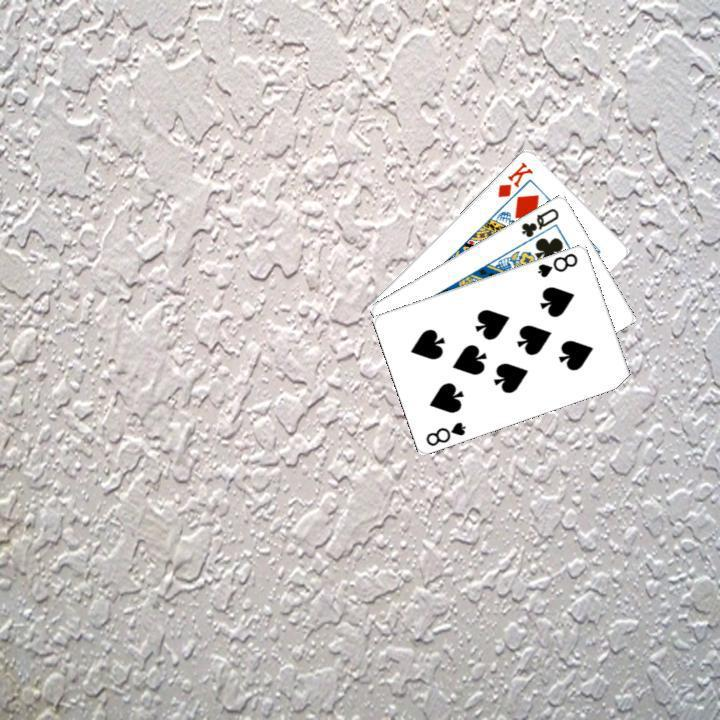8: (533, 248, 580, 279), (421, 417, 468, 448)
K: (493, 157, 535, 199)
Q: (517, 203, 561, 239)
